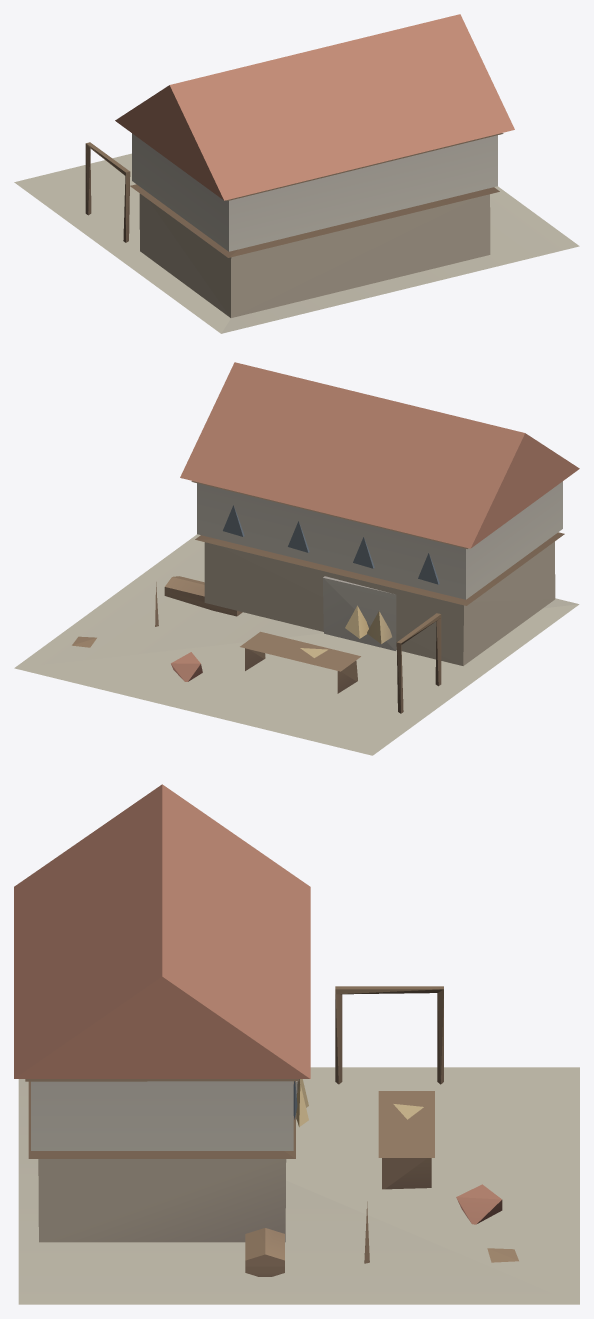
The model's file is luthier.lite.glb.
3 renders of one model, top to bottom at view 1: azimuth 30°, elevation 25°; view 2: azimuth 150°, elevation 25°; view 3: azimuth 270°, elevation 25°, orthographic. The views are drawn at different scales.
Parts seen in each view (by area): view 1: luthier; view 2: luthier; view 3: luthier.
Boxes of the visible parts, x1,y1,x2,y2 form: luthier: (14,14,579,333); luthier: (14,362,579,755); luthier: (14,784,579,1304).
Bounding box in the file's own units: 4.96 × 2.79 × 5.
